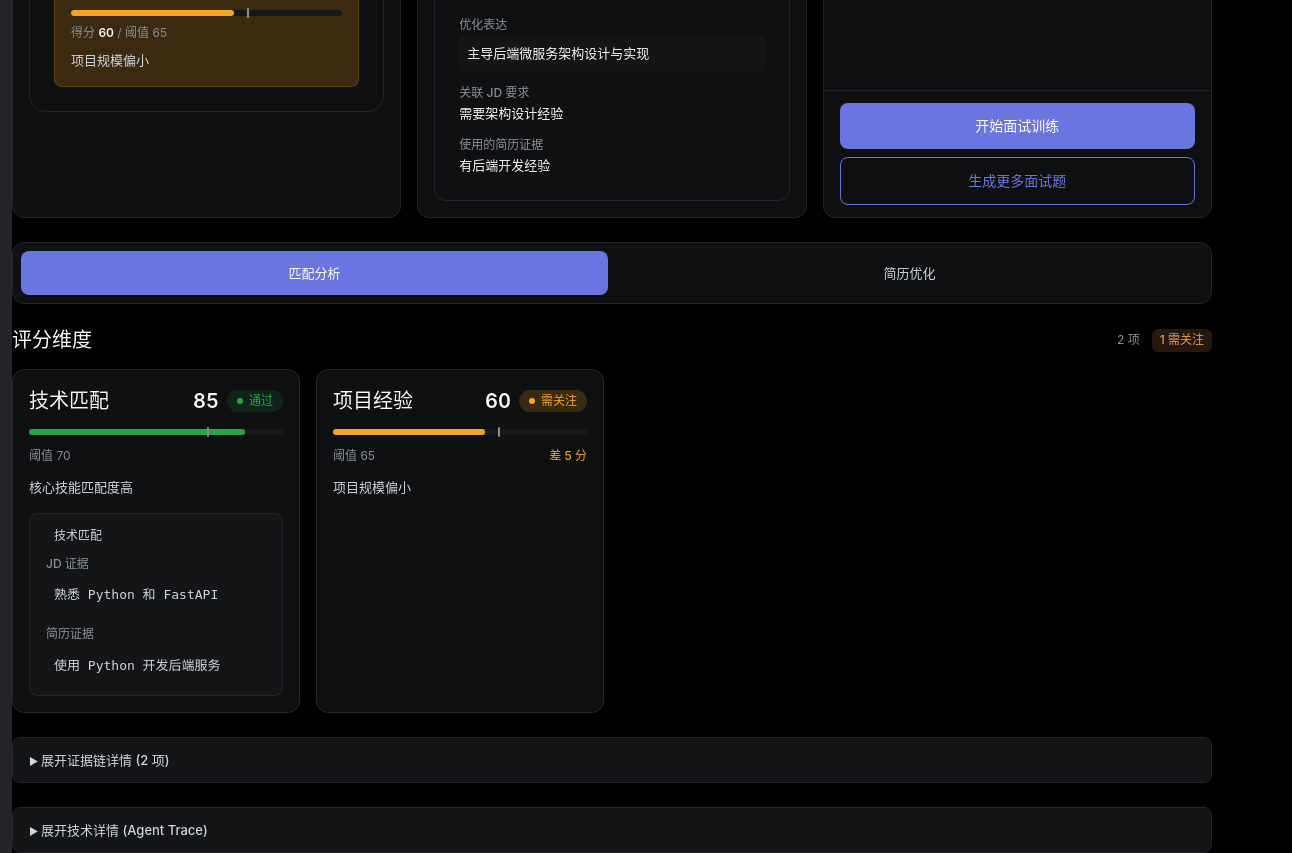
Test: ReportView › 报告结构 › 数据就绪时渲染 AgentTraceTimeline（展开技术详情）
(page scrolled)
What coordinates should you click on to do the following:
click the heading with class "dashboard__details-summary" showing "展开技术详情 (Agent Trace)"
I would click on:
 (124, 830)
Its box is left=13, top=808, right=1211, bottom=852.
(page scrolled)
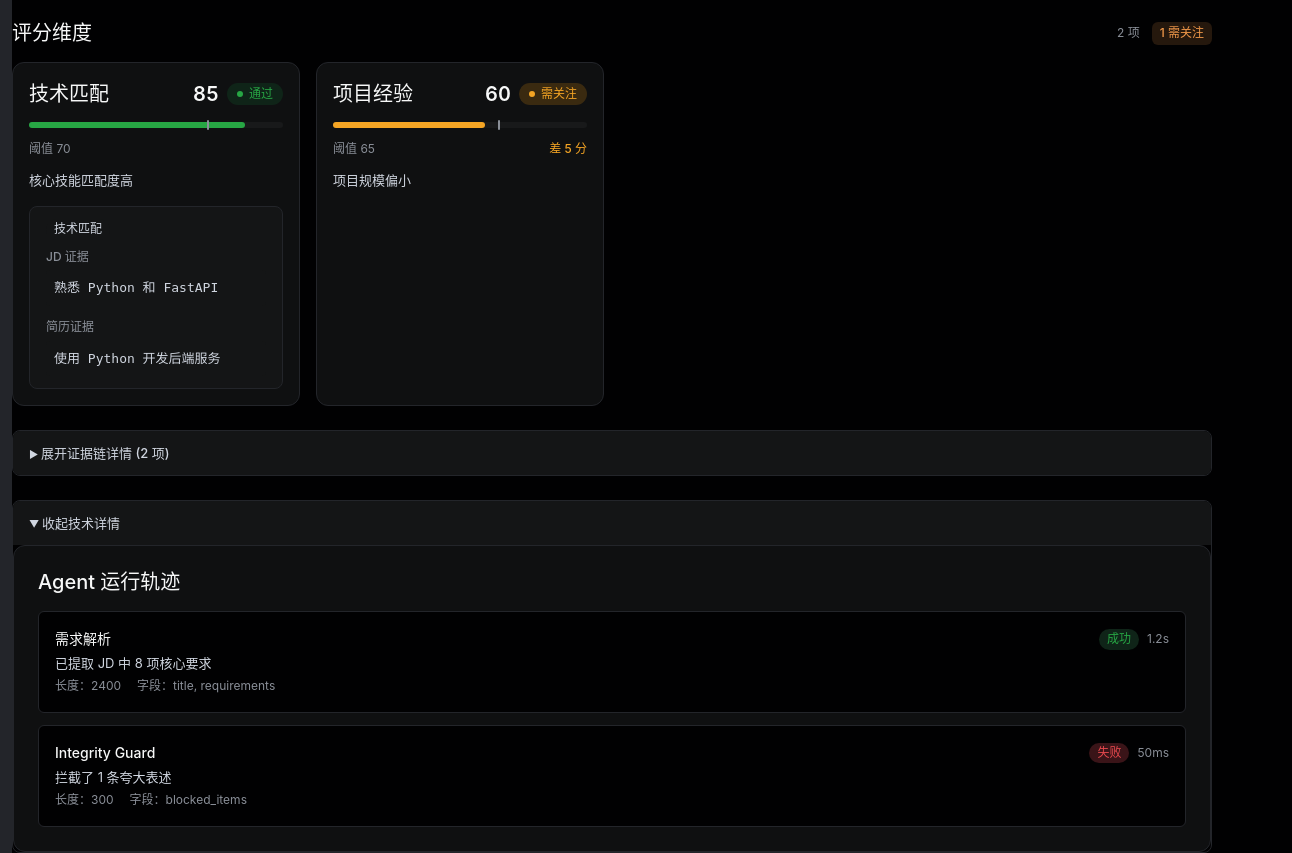
Expected: the element named "Agent 运行轨迹" is shown, left=13, top=545, right=1211, bottom=852
